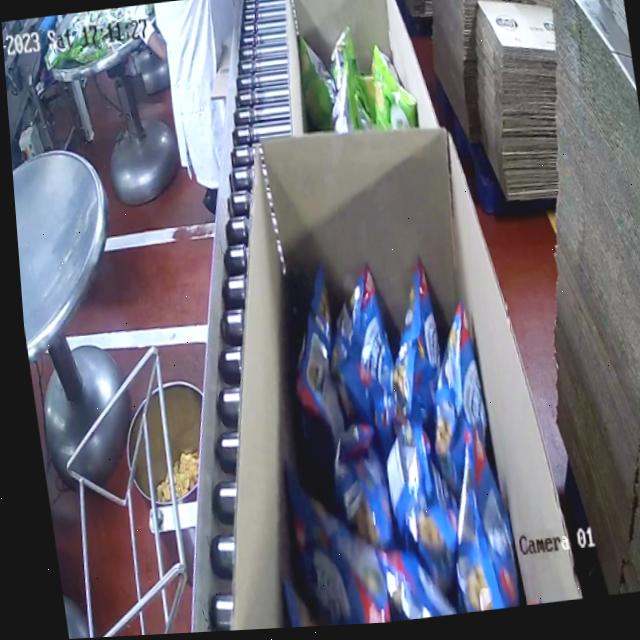PAPRIKA: (254, 236, 521, 628)
